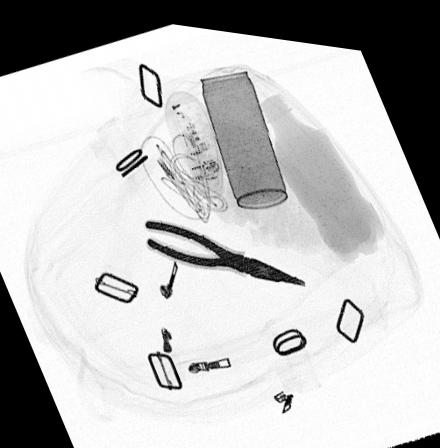Pliers: (142, 213, 307, 279)
